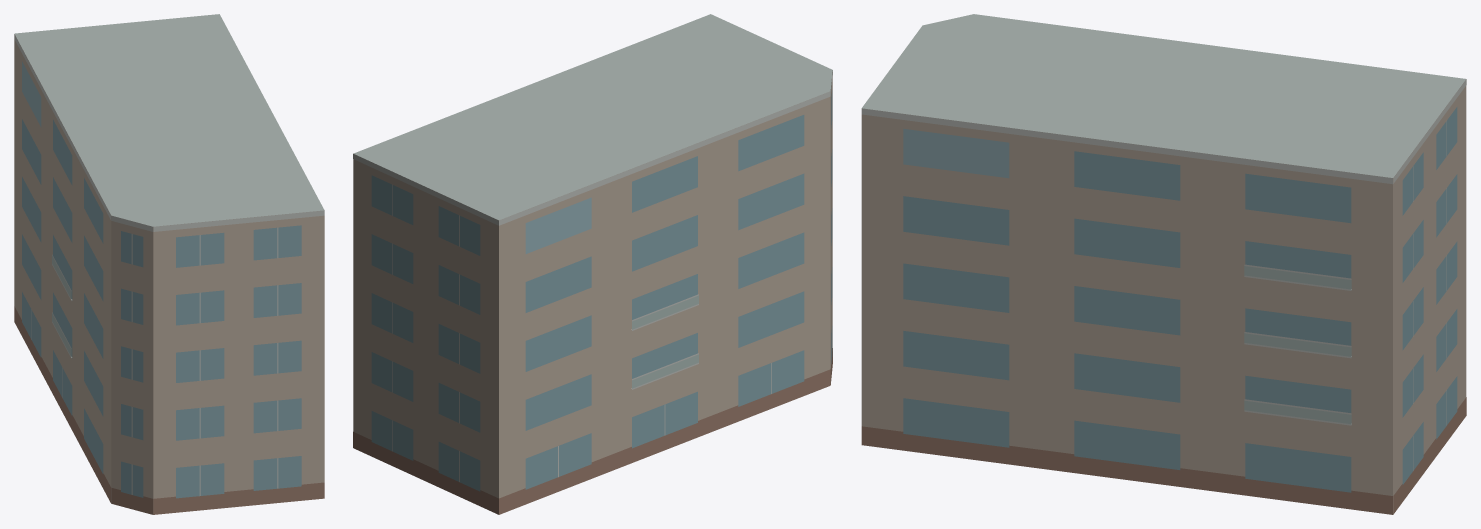
Rendered from survey-upis-32869846.glb.
3 renders of one model, left to right at view 1: azimuth 30°, elevation 25°; view 2: azimuth 150°, elevation 25°; view 3: azimuth 270°, elevation 25°, orthographic. The views are drawn at different scales.
Visible parts, largest first — view 1: survey-upis-32869846.tmp; view 2: survey-upis-32869846.tmp; view 3: survey-upis-32869846.tmp.
Part boxes in pixels (<box>): survey-upis-32869846.tmp: <box>14,14,324,514</box>; survey-upis-32869846.tmp: <box>353,14,832,514</box>; survey-upis-32869846.tmp: <box>861,14,1466,514</box>.
Size of the model in its own units: 13.96 by 13.35 by 21.74.
